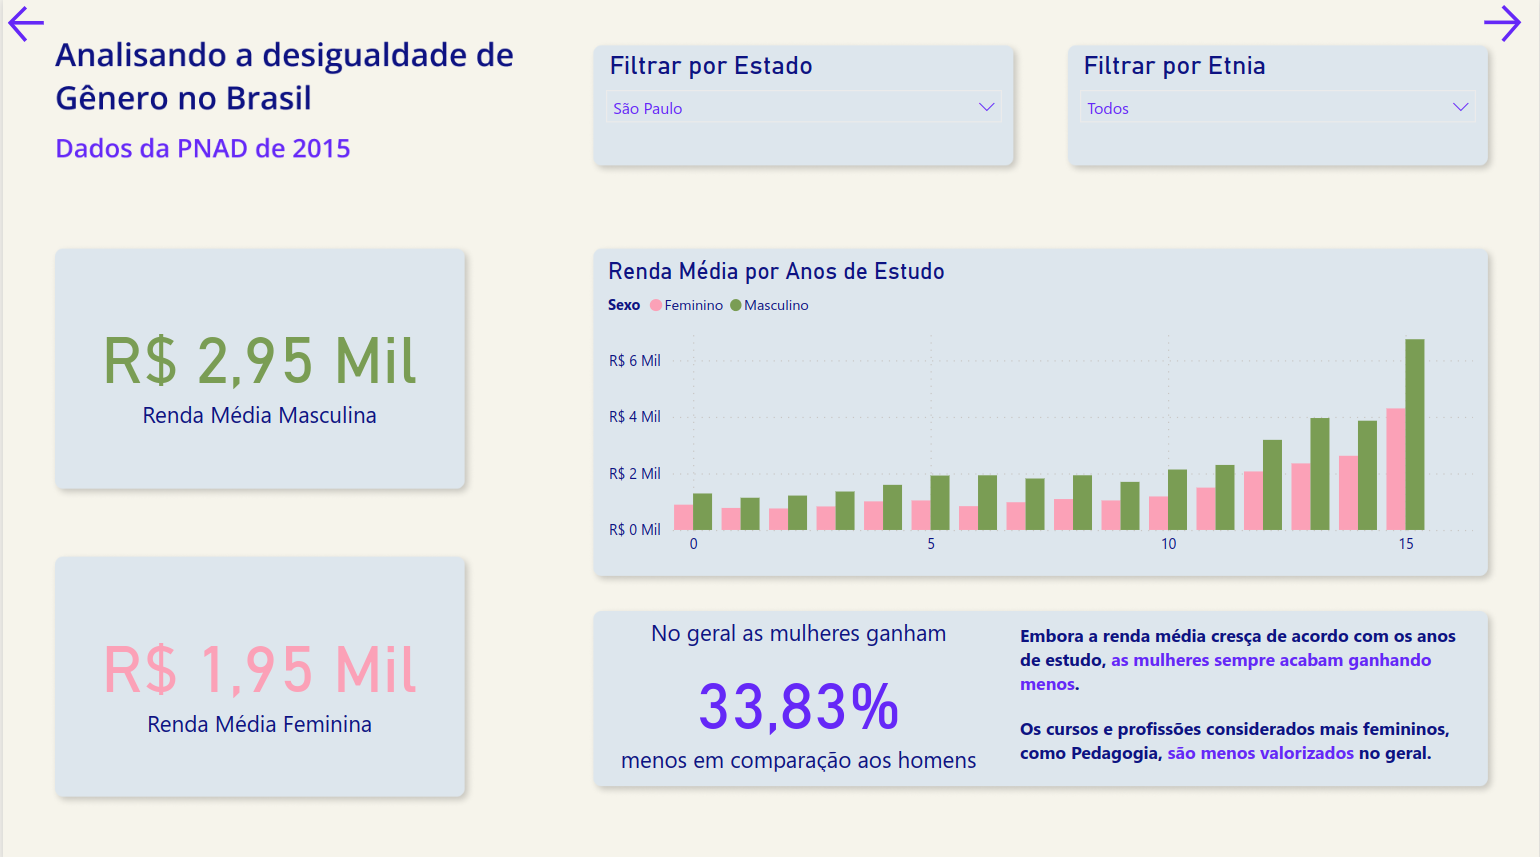

What the dashboard file says about the page in this screenshot:
{"tool":"powerbi","page":{"name":"Renda","canvas":[1280,720],"ordinal":1},"visuals":[{"type":"card","fields":{"Values":["MedidasSP.MediaHomens"]},"box":[43.7,206,341.1,202.2],"z":0},{"type":"card","fields":{"Values":["MedidasSP.MediaMulheres"]},"box":[43.7,462.6,341.1,203.1],"z":1000},{"type":"slicer","fields":{"Values":["Renda.UF"]},"box":[492.8,40.8,349.9,98.2],"z":2000},{"type":"slicer","fields":{"Values":["Renda.Cor"]},"box":[887.4,40.8,349.9,98.2],"z":3000},{"type":"clusteredColumnChart","title":"Renda Média por Anos de Estudo","fields":{"Category":["Renda.Anos de Estudo"],"Y":["Avg(Renda.Renda)"],"Series":["Renda.Sexo"]},"box":[499.6,217.7,730.9,254.6],"z":4000},{"type":"card","title":"No geral as mulheres ganham","fields":{"Values":["Medidas.DiferencaEmRenda"]},"box":[492.8,515.1,341.1,134.1],"z":5000},{"type":"textbox","box":[842.6,515.1,387.8,134.1],"z":6000},{"type":"actionButton","box":[1228.5,0,51.5,40.8],"z":6001},{"type":"actionButton","box":[0,1,53.5,39.8],"z":6002}]}

Visuals, with their boxes in screenshot pixels (x1, y1, x2, y2), scaled from the page's 1280x720 canvas onto the 1540x857 screenshot:
card - MedidasSP.MediaHomens: locate(53, 245, 463, 486)
card - MedidasSP.MediaMulheres: locate(53, 551, 463, 792)
slicer - Renda.UF: locate(593, 49, 1014, 165)
slicer - Renda.Cor: locate(1068, 49, 1489, 165)
"Renda Média por Anos de Estudo" clusteredColumnChart: locate(601, 259, 1480, 562)
"No geral as mulheres ganham" card: locate(593, 613, 1003, 773)
textbox: locate(1014, 613, 1480, 773)
actionButton: locate(1478, 0, 1539, 49)
actionButton: locate(0, 1, 64, 49)
